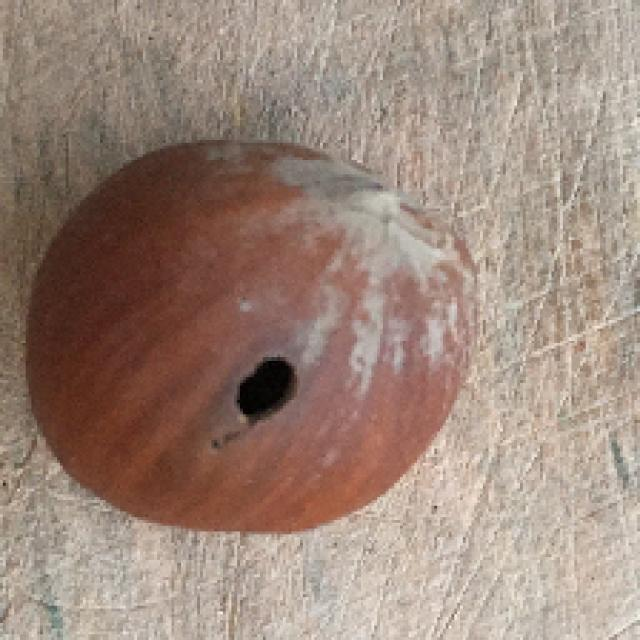damagedHazelnut: (25, 127, 479, 539)
